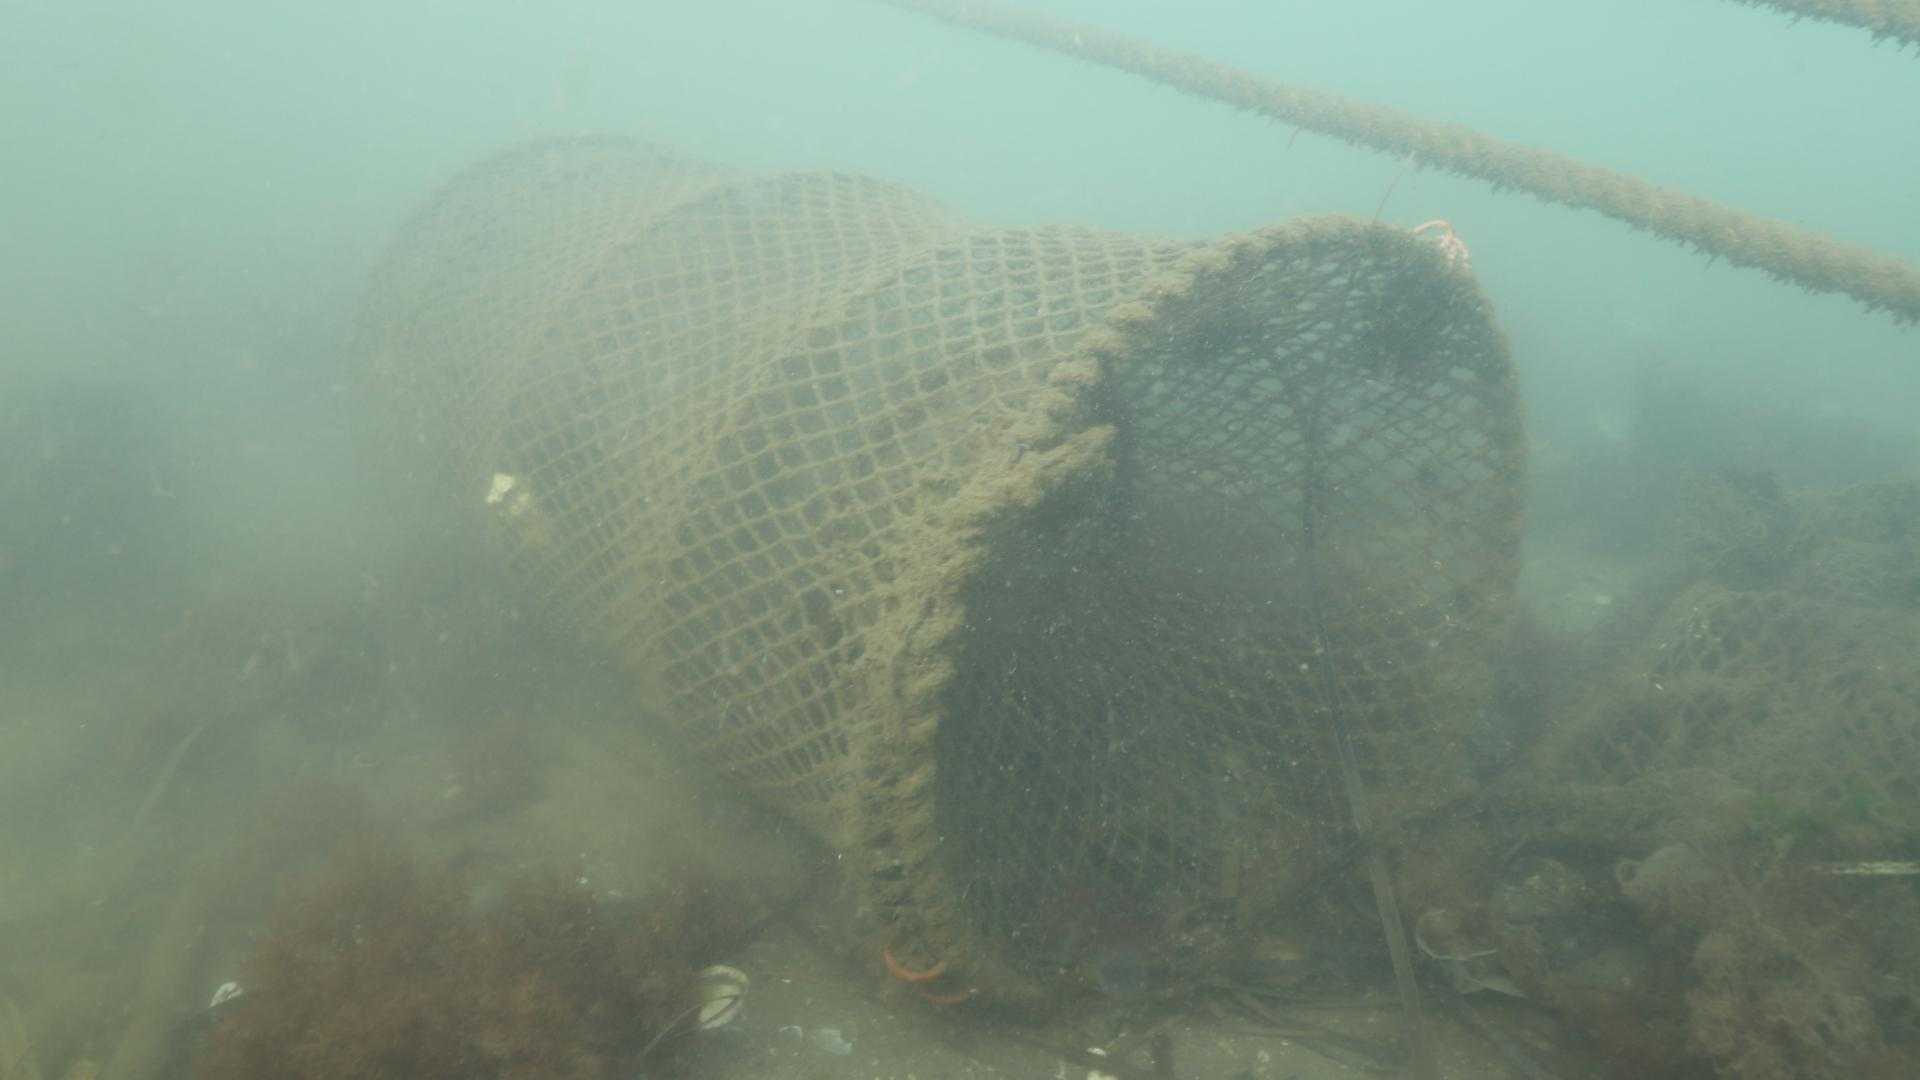fish net: (1557, 539, 1920, 865)
rope: (895, 0, 1920, 324)
spring fish trap: (338, 128, 1531, 1026)
